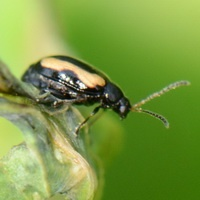insect: (22, 56, 188, 130)
